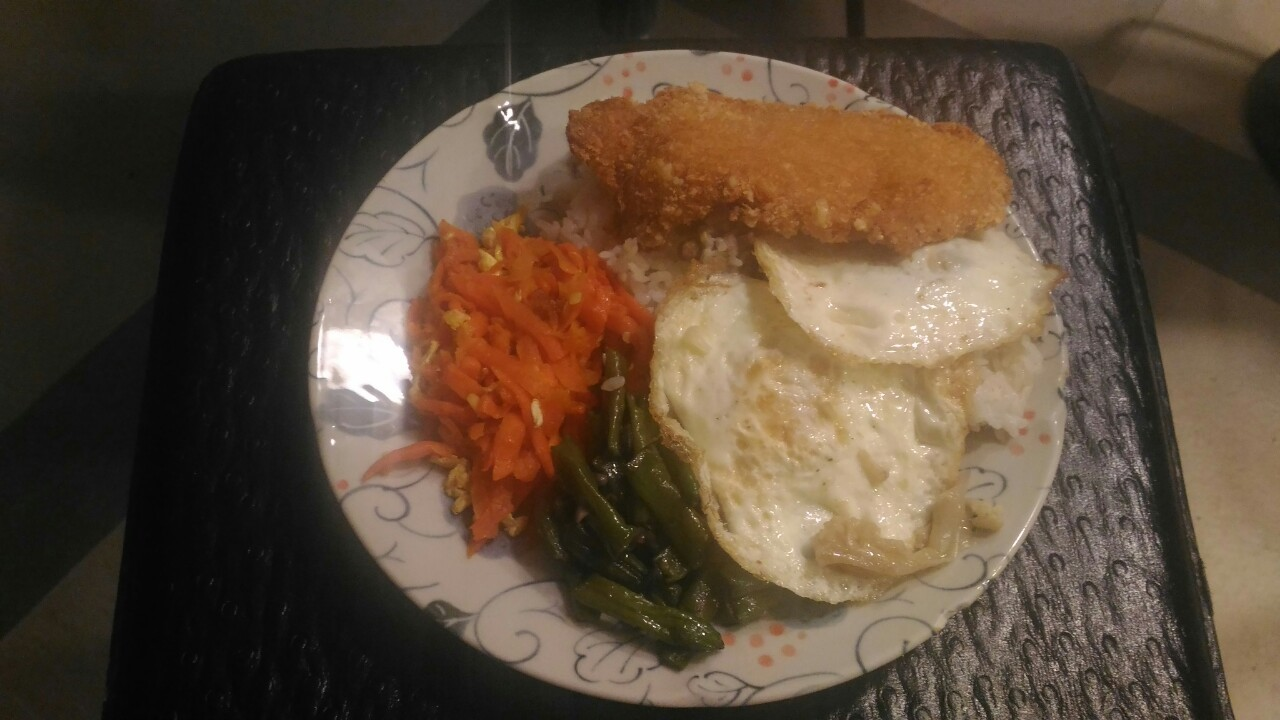carrot_eggs: (408, 223, 607, 526)
fried_chicken: (567, 84, 1010, 250)
fried_eggs: (665, 245, 1045, 593)
